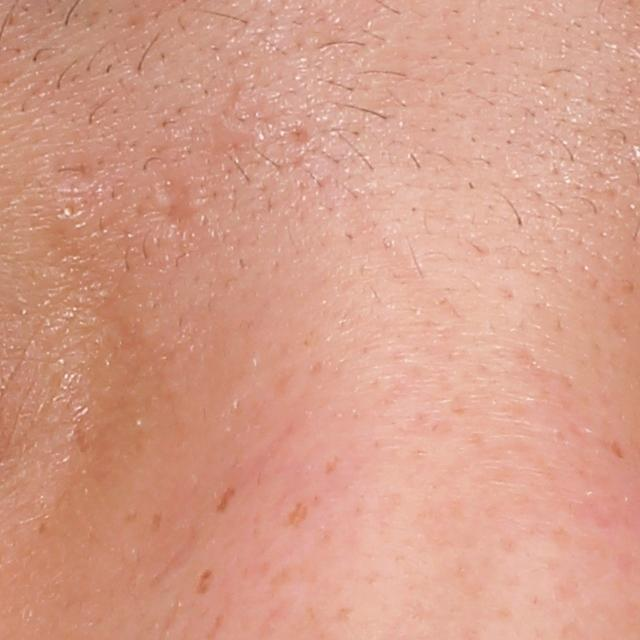atrophic_scar: (132, 164, 204, 233), (43, 134, 108, 189)
melasma: (210, 482, 235, 519), (282, 498, 310, 529), (195, 563, 214, 597), (150, 508, 165, 536)
